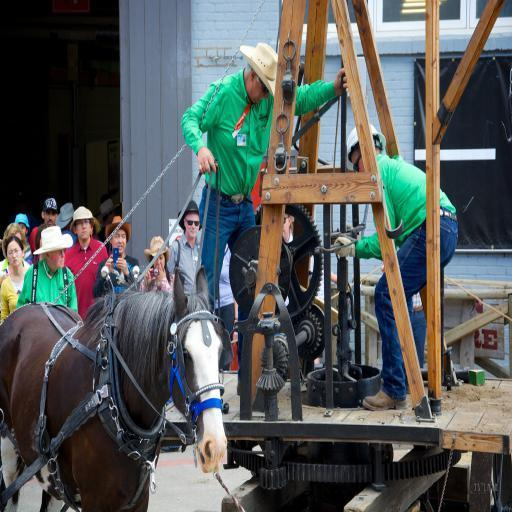horse: (0, 268, 228, 512)
